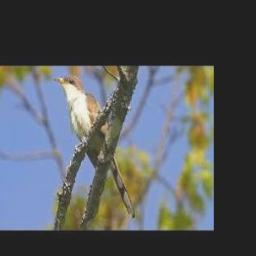Cuckoo: (52, 75, 134, 218)
